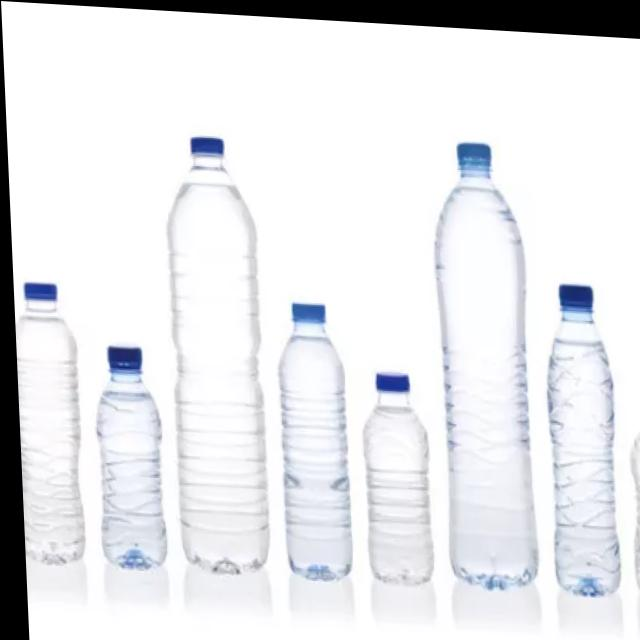bottle: (420, 130, 538, 587), (159, 126, 267, 577), (537, 269, 620, 597), (269, 294, 351, 581), (10, 277, 83, 564), (85, 339, 168, 570), (353, 363, 430, 590), (622, 385, 640, 596)
